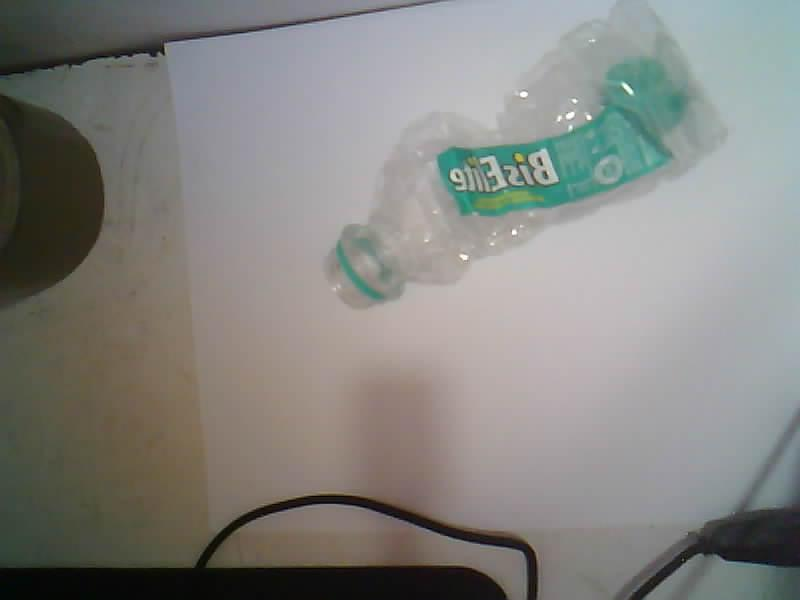non-biodegradable: (327, 0, 723, 307)
